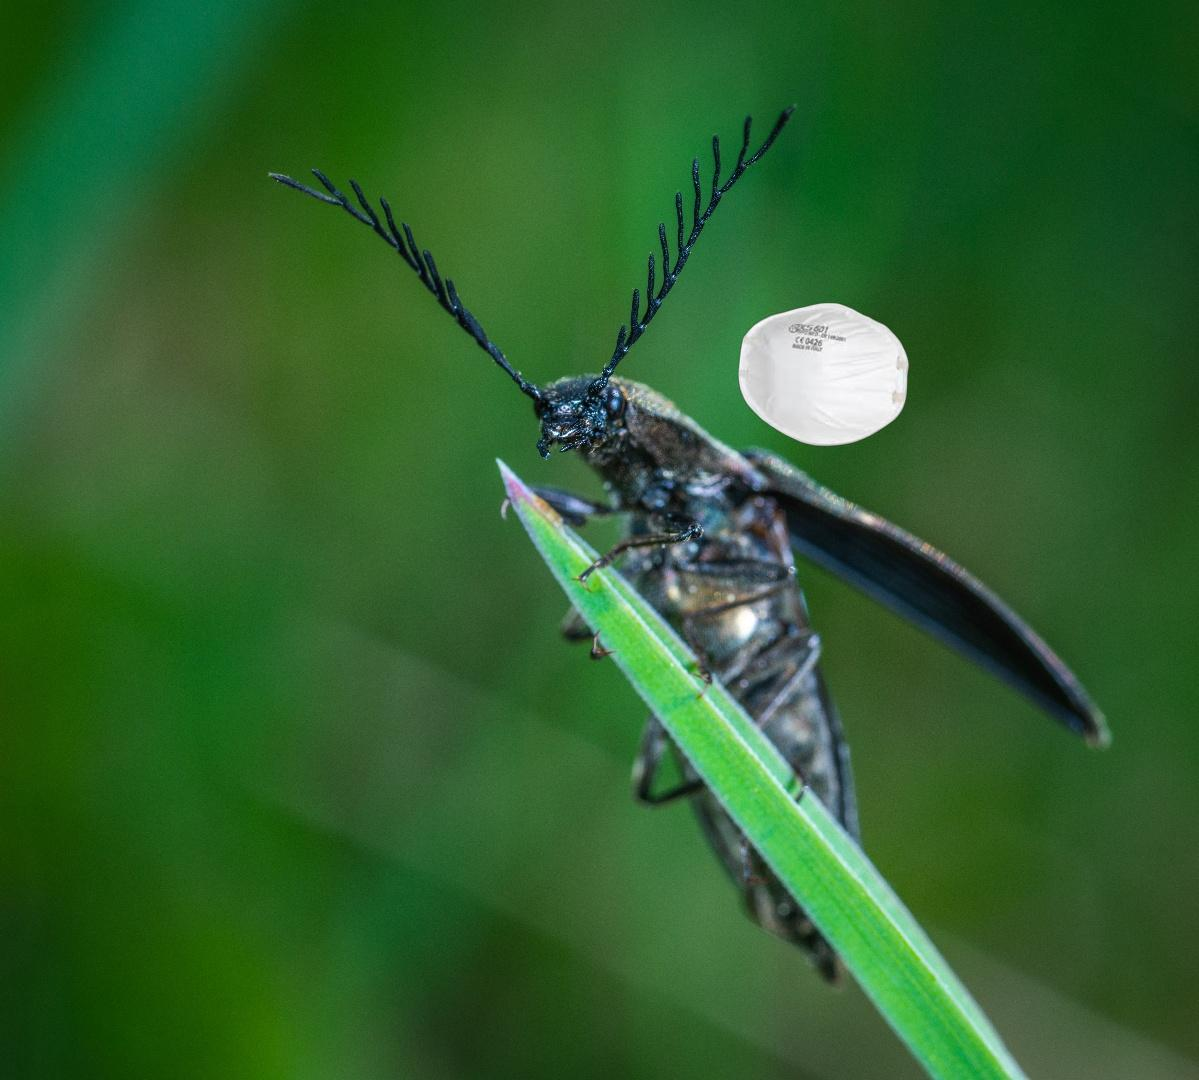trash: (735, 300, 912, 449)
